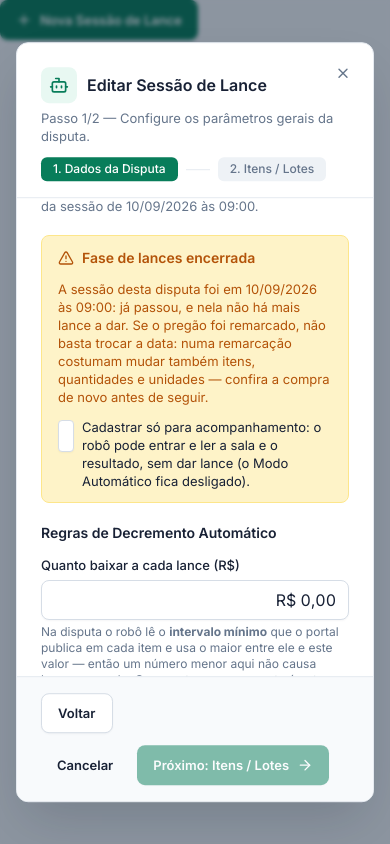
Test: ConfigurarLanceDialog — processo vencido (Rafael, 17/09) › sessão num dia anterior: "Fase de lances encerrada", Modo Automático travado, e só segue marcando acompanhamento
(page scrolled)
Expected: the text "foi em 10/09/2026 às 09:00" is shown, [58,282,317,334]
Expected: the button "Próximo: Itens / Lotes" is disabled, [137,745,329,785]
Click the checkbox named "Cadastrar só para acompanhamento" at (66, 437), box [58,421,74,453]
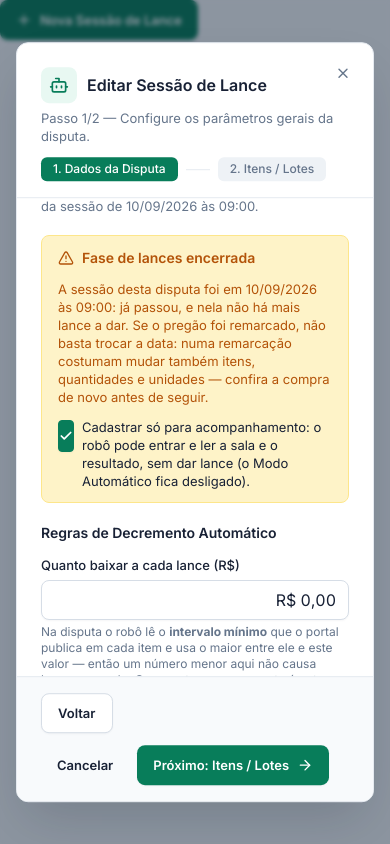
Now the button "Próximo: Itens / Lotes" is enabled, box [137,745,329,785]
